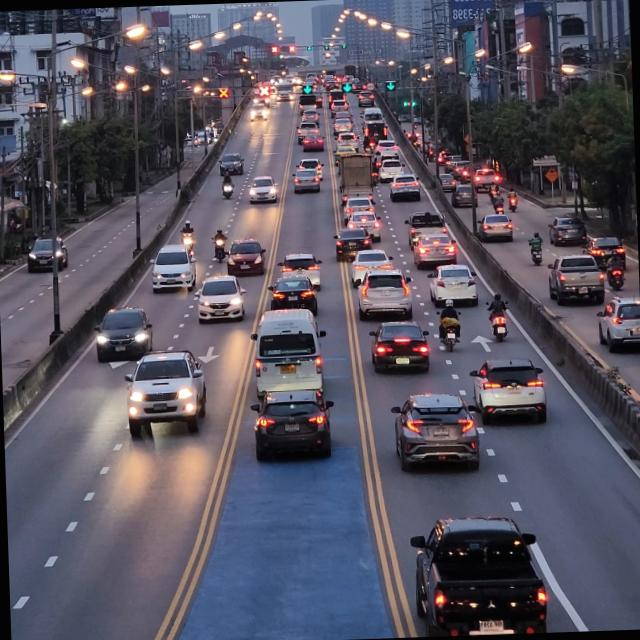Vehicle: (403, 511, 551, 637), (241, 303, 333, 397), (390, 388, 482, 479), (122, 347, 210, 438), (248, 379, 336, 464), (468, 357, 546, 423), (363, 322, 431, 377), (91, 301, 148, 362), (351, 267, 414, 319), (140, 243, 198, 296), (544, 252, 605, 300), (259, 272, 325, 314), (190, 274, 244, 324), (423, 262, 477, 308), (221, 235, 269, 279)
